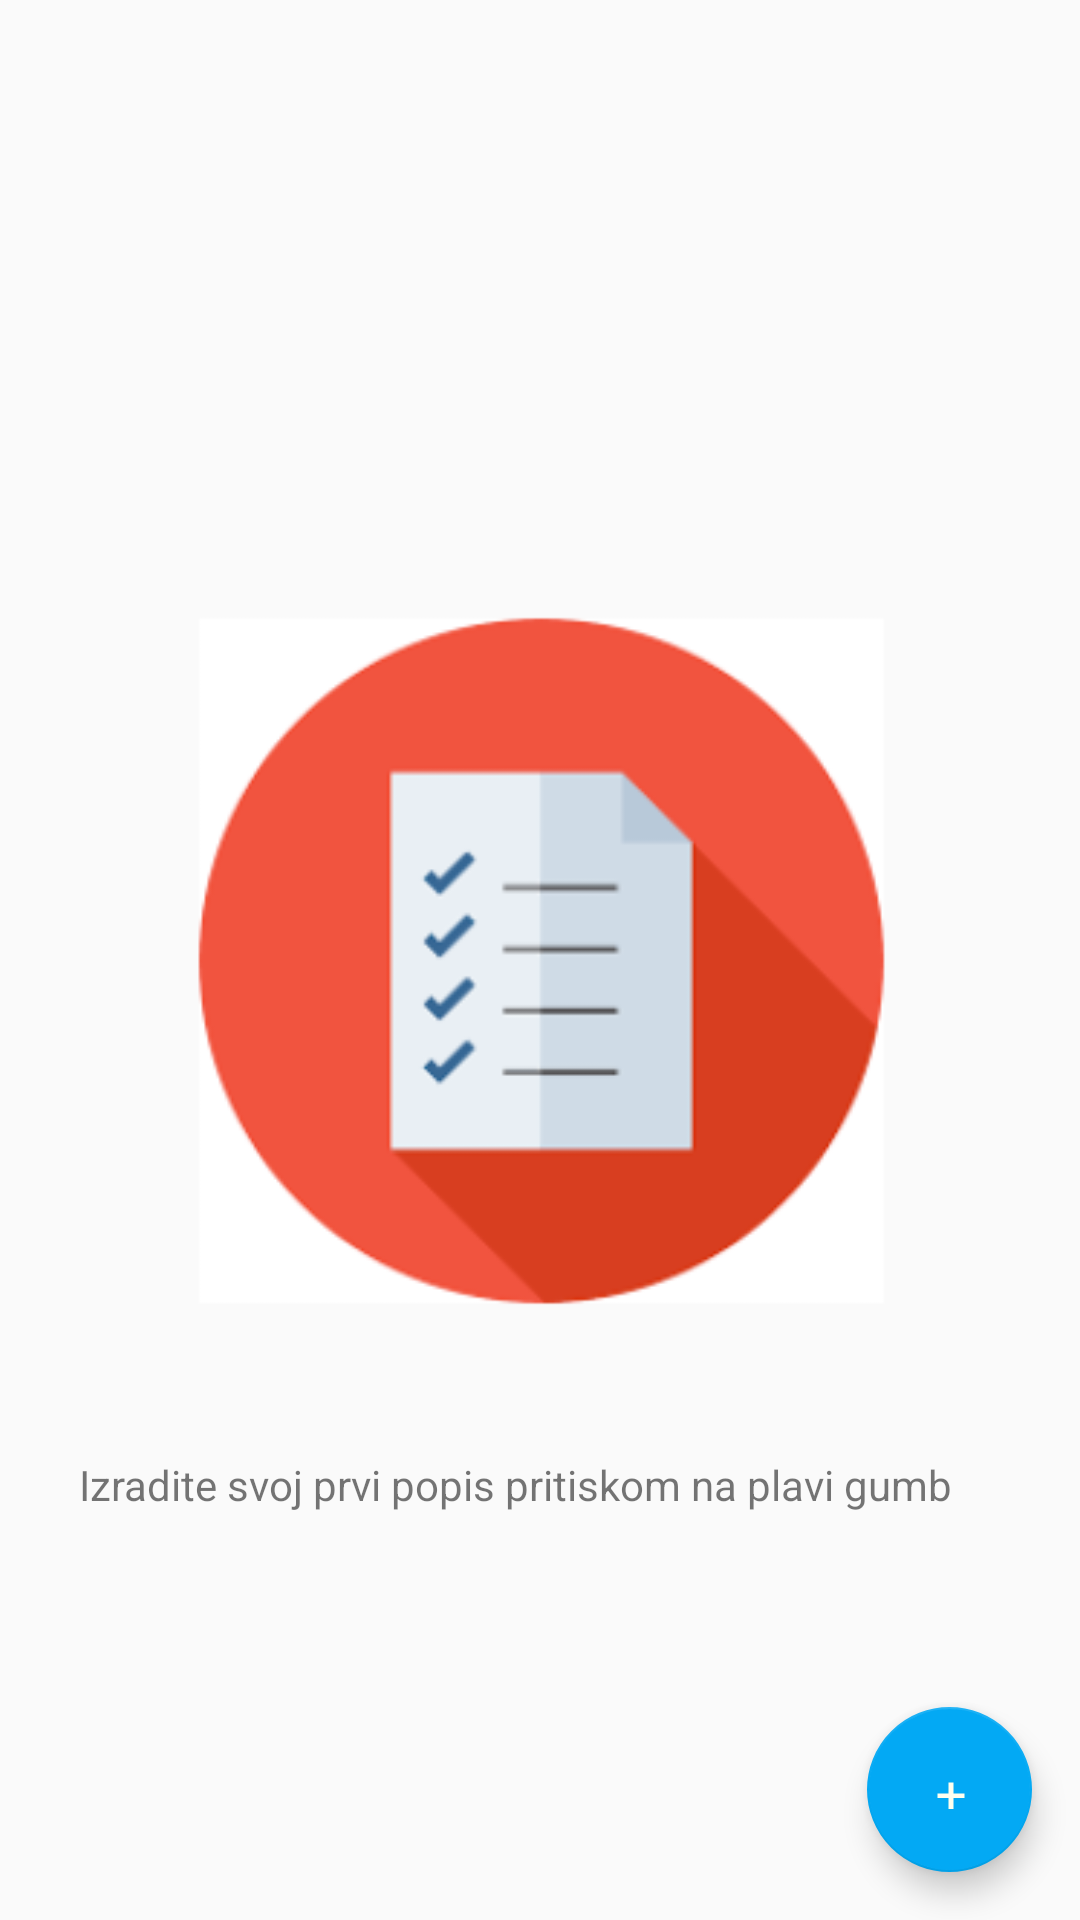

Where to tap for icons on this 1080 x 1920 app screen, as (x=x, y=y):
plus: (x=949, y=1789)
